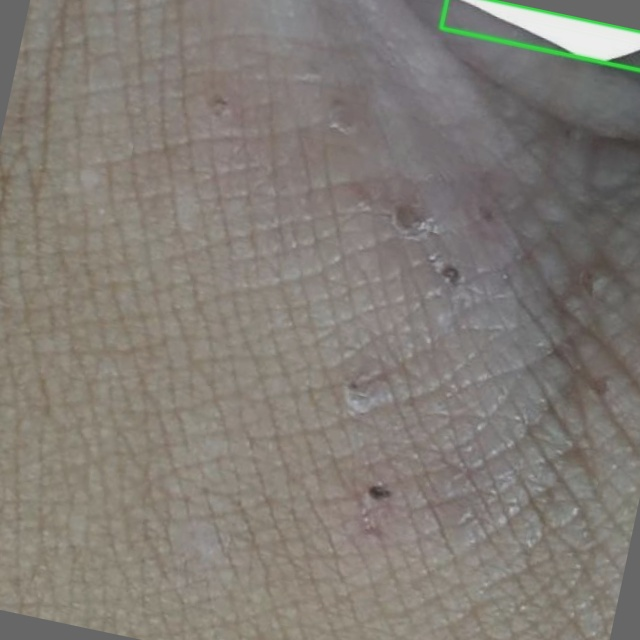Scabies: (439, 0, 639, 70)
